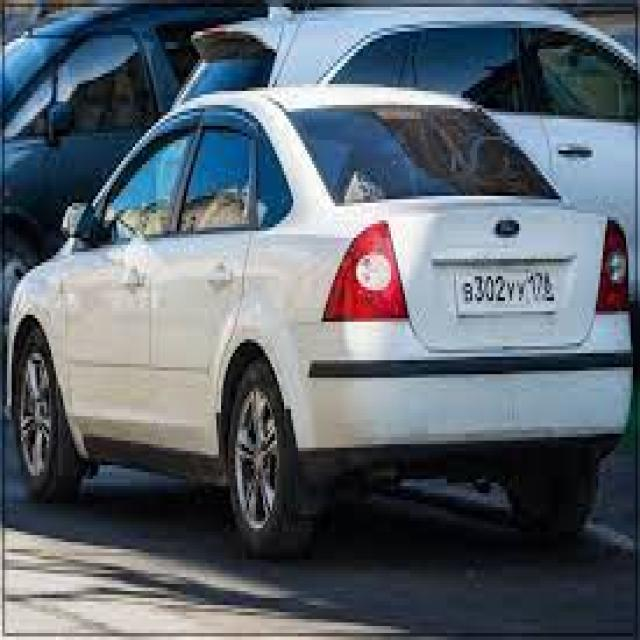number-plates: (455, 266, 559, 317)
